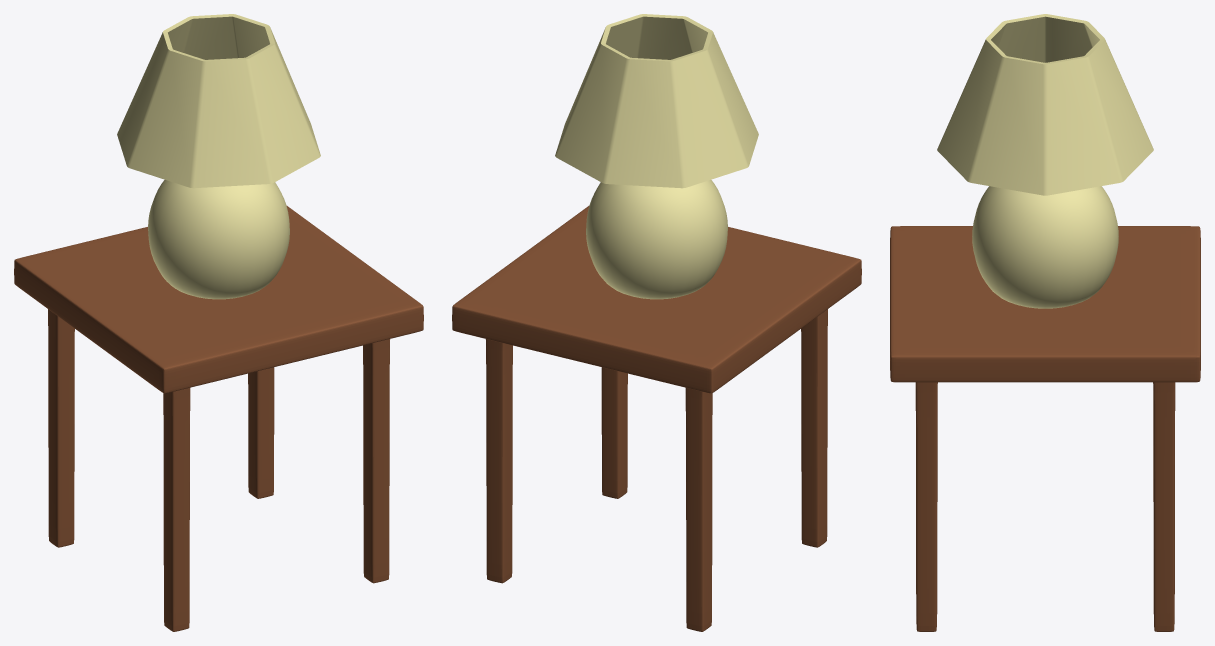
File: lamp_bed.glb
The picture shows the model from 3 angles, left to right: view 1: azimuth 30°, elevation 25°; view 2: azimuth 150°, elevation 25°; view 3: azimuth 270°, elevation 25°; orthographic projection. The views are drawn at different scales.
Parts seen in each view (by area): view 1: little_table, lamp; view 2: little_table, lamp; view 3: little_table, lamp.
Boxes of the visible parts, x1,y1,x2,y2 form: little_table: (14,206,423,631); lamp: (117,14,320,299); little_table: (452,206,861,631); lamp: (555,14,758,299); little_table: (890,226,1200,631); lamp: (937,14,1153,308).
Size of the model in its own units: 1.11 by 2.12 by 1.11.
